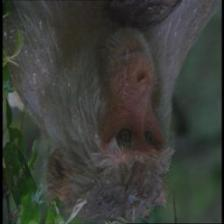monkey: (28, 19, 186, 222)
